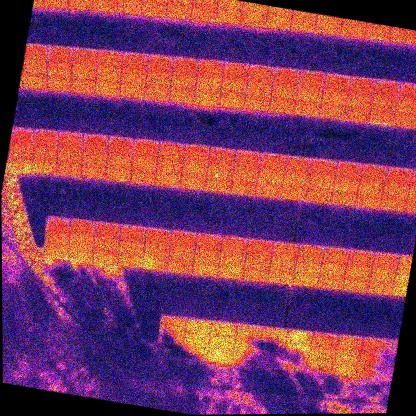Diode: (43, 241, 70, 261), (91, 248, 119, 267)
Hotspot: (190, 1, 219, 23), (104, 162, 133, 184), (44, 59, 73, 80), (69, 60, 98, 80), (208, 146, 237, 166), (331, 174, 360, 194), (290, 13, 317, 34), (257, 166, 285, 186), (166, 0, 194, 20), (159, 139, 185, 160), (367, 107, 394, 127), (339, 20, 367, 39), (24, 42, 50, 62), (207, 160, 234, 179), (139, 0, 167, 18), (387, 27, 415, 45), (235, 149, 261, 168), (68, 245, 94, 264), (330, 190, 357, 208), (364, 25, 392, 42), (9, 140, 34, 159), (308, 173, 334, 190)
Normal: (119, 49, 150, 71), (240, 263, 270, 285), (95, 47, 125, 69), (141, 82, 172, 103), (91, 77, 122, 98), (265, 9, 294, 31), (144, 67, 174, 88), (183, 142, 211, 164), (193, 87, 222, 108), (214, 4, 243, 25), (167, 85, 197, 105), (195, 72, 223, 93), (240, 7, 268, 28), (259, 150, 287, 171), (267, 266, 295, 287), (119, 65, 148, 85), (221, 234, 250, 254), (118, 222, 147, 242), (216, 261, 245, 281), (145, 53, 174, 73), (369, 91, 398, 111), (268, 253, 298, 272), (315, 16, 342, 37), (133, 137, 160, 158), (294, 97, 322, 117), (118, 79, 146, 99), (309, 157, 337, 177), (382, 179, 410, 199), (194, 231, 222, 251), (43, 213, 71, 233), (373, 77, 401, 97), (323, 72, 351, 92), (222, 59, 250, 79), (218, 90, 247, 109), (106, 135, 135, 154), (344, 261, 373, 280), (196, 59, 225, 78), (285, 153, 311, 174), (385, 165, 412, 185), (336, 159, 363, 179), (82, 132, 109, 152), (380, 193, 407, 213), (205, 175, 232, 195), (179, 172, 206, 192), (154, 169, 181, 189), (79, 161, 106, 181), (44, 227, 71, 247), (349, 75, 376, 95), (298, 69, 325, 89), (169, 70, 197, 89), (343, 104, 371, 123), (318, 101, 346, 120), (94, 63, 122, 82), (267, 95, 295, 114), (244, 92, 272, 111), (56, 130, 84, 149), (181, 158, 209, 177), (355, 191, 383, 210), (305, 186, 333, 205), (57, 144, 85, 163), (32, 141, 60, 160), (369, 264, 397, 283), (68, 231, 96, 250), (292, 269, 320, 288), (191, 260, 219, 279), (335, 332, 363, 351), (183, 316, 211, 335), (345, 89, 373, 108), (270, 81, 298, 100), (219, 77, 248, 95), (141, 253, 170, 271), (32, 128, 59, 147), (82, 147, 109, 166), (255, 181, 282, 200), (230, 178, 257, 197), (117, 250, 144, 269), (274, 66, 301, 85), (248, 63, 275, 82), (172, 56, 199, 75), (296, 84, 323, 103), (71, 46, 98, 65), (293, 257, 323, 274), (44, 74, 72, 92), (296, 242, 324, 260), (144, 226, 172, 244), (68, 218, 96, 236), (166, 257, 194, 275), (310, 331, 338, 349), (321, 87, 349, 105), (55, 159, 80, 179), (193, 246, 219, 265), (217, 249, 246, 266), (285, 328, 314, 345), (246, 79, 273, 97), (23, 58, 50, 76), (22, 72, 49, 90), (282, 170, 309, 188), (156, 156, 183, 174), (132, 153, 159, 171), (129, 167, 156, 185), (373, 250, 400, 268), (347, 247, 374, 265), (322, 244, 349, 262), (247, 238, 274, 256), (94, 221, 121, 239), (168, 244, 195, 262), (143, 240, 170, 258), (118, 237, 145, 255), (261, 324, 288, 342), (210, 319, 237, 337), (333, 347, 360, 365), (47, 44, 71, 64), (392, 110, 416, 130), (366, 280, 394, 297), (235, 323, 263, 340), (207, 333, 235, 350), (206, 346, 234, 363), (10, 124, 35, 143), (361, 161, 387, 179), (358, 177, 384, 195), (232, 165, 258, 183), (32, 155, 58, 173), (317, 272, 343, 290), (160, 314, 186, 332), (309, 344, 335, 362), (68, 77, 95, 94), (106, 150, 133, 167), (320, 259, 347, 276), (244, 251, 271, 268), (93, 235, 120, 252), (182, 331, 209, 348), (332, 359, 356, 378), (170, 230, 195, 248), (281, 185, 307, 202), (272, 241, 298, 258), (116, 0, 143, 16), (342, 276, 369, 292), (394, 96, 416, 115), (91, 0, 118, 12), (398, 81, 416, 99), (67, 0, 94, 11), (41, 0, 71, 9)
Shadow: (180, 341, 208, 362), (232, 336, 261, 355), (255, 350, 284, 369), (306, 357, 334, 376), (158, 327, 185, 346), (281, 354, 308, 373), (230, 348, 257, 367), (360, 336, 388, 354), (283, 340, 311, 358), (358, 350, 385, 368), (259, 338, 286, 356), (354, 363, 380, 379)
